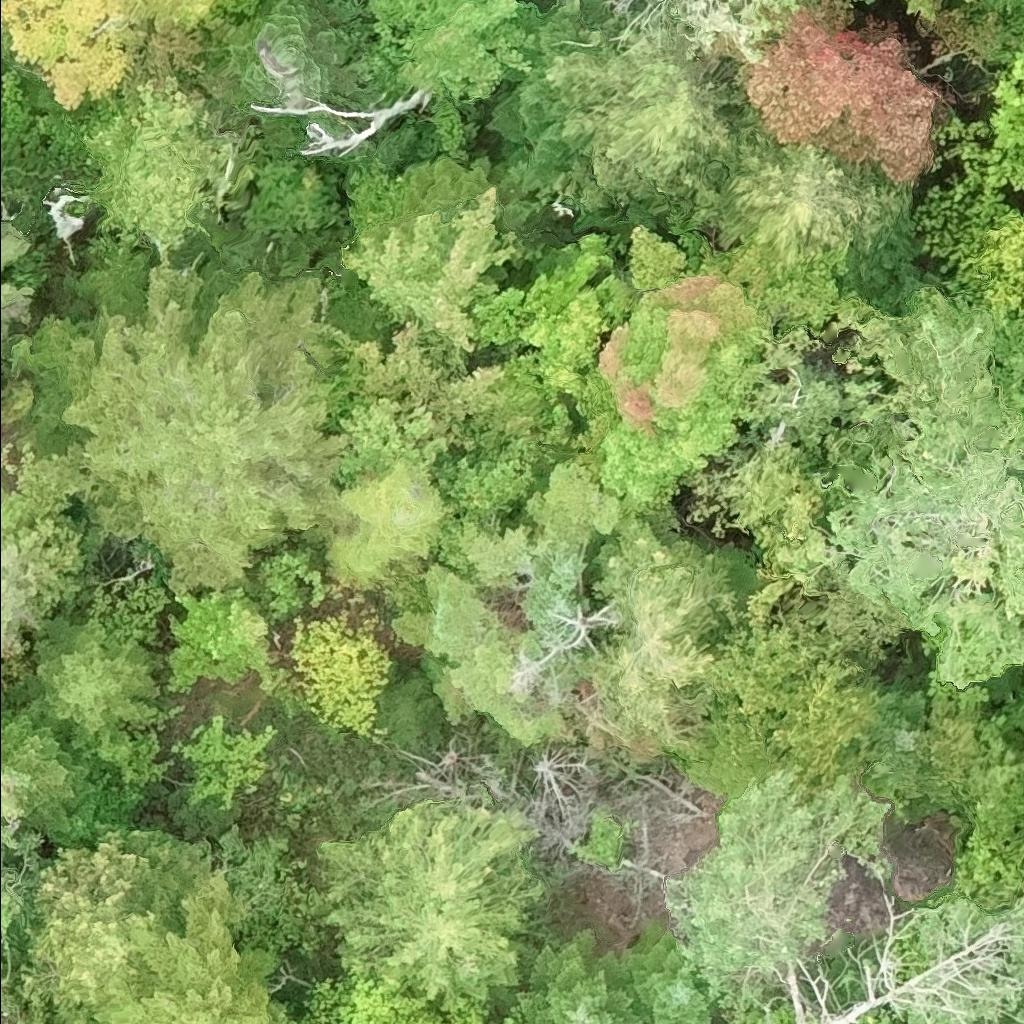crown: (11, 246, 353, 590), (812, 314, 1023, 685), (663, 763, 892, 1023), (589, 222, 766, 500), (316, 797, 547, 992), (740, 0, 938, 191), (16, 819, 192, 1023), (90, 847, 291, 1023), (702, 597, 878, 796), (545, 33, 736, 204), (340, 183, 520, 352), (716, 119, 906, 268), (88, 75, 232, 255), (469, 231, 616, 405), (604, 544, 726, 742), (366, 0, 539, 102), (837, 660, 957, 806), (484, 48, 594, 202), (326, 457, 457, 583), (0, 684, 101, 843), (32, 615, 165, 733), (493, 925, 642, 1023), (226, 0, 362, 106), (289, 608, 392, 745), (169, 584, 272, 694), (337, 318, 447, 415), (616, 923, 719, 1023), (606, 0, 763, 65), (175, 714, 269, 808), (424, 364, 521, 445), (338, 961, 455, 1023), (0, 767, 43, 931), (521, 547, 591, 629), (954, 826, 1023, 907), (987, 40, 1023, 159), (968, 0, 1023, 66), (124, 0, 223, 33), (0, 281, 38, 340), (0, 224, 30, 270), (904, 0, 938, 23), (998, 994, 1023, 1023), (501, 1012, 523, 1023), (962, 0, 974, 6), (0, 976, 2, 988), (0, 959, 2, 971)
